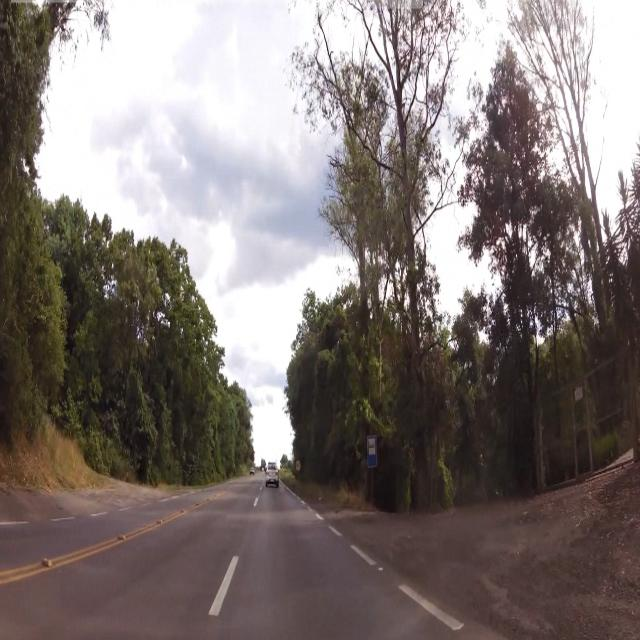S-14: (367, 436, 377, 466)
